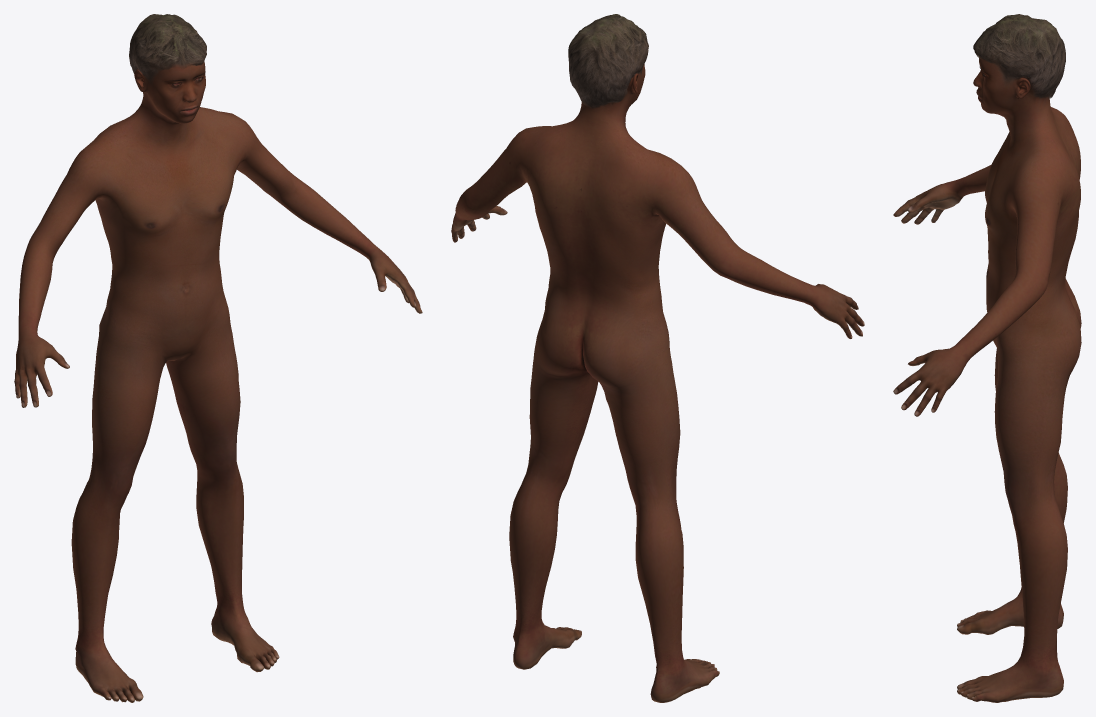
The model's file is rahim.glb.
3 views of the same model, side by side, from view 1: azimuth 30°, elevation 25°; view 2: azimuth 150°, elevation 25°; view 3: azimuth 270°, elevation 25° (orthographic).
Visible parts, largest first — view 1: rahim, rahim.short02; view 2: rahim, rahim.short02; view 3: rahim, rahim.short02.
Part boxes in pixels (bbox=[...]): rahim: bbox=[14, 61, 422, 702]; rahim.short02: bbox=[129, 14, 206, 85]; rahim: bbox=[451, 64, 864, 702]; rahim.short02: bbox=[568, 14, 648, 108]; rahim: bbox=[893, 56, 1081, 702]; rahim.short02: bbox=[973, 14, 1065, 98].
Size of the model in its own units: 1.06 by 1.65 by 0.4361.
6 materials, 6 textured.
